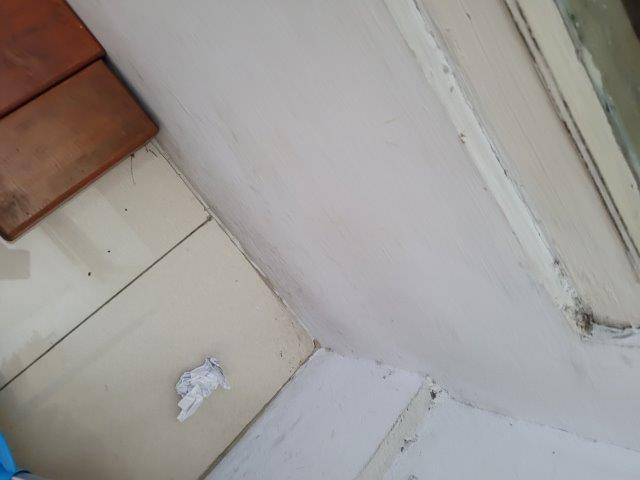kertas: (170, 358, 231, 424)
